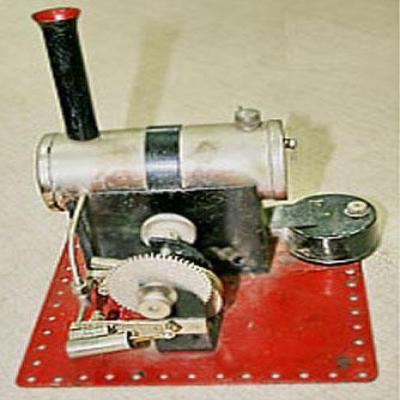other: (16, 8, 383, 390)
